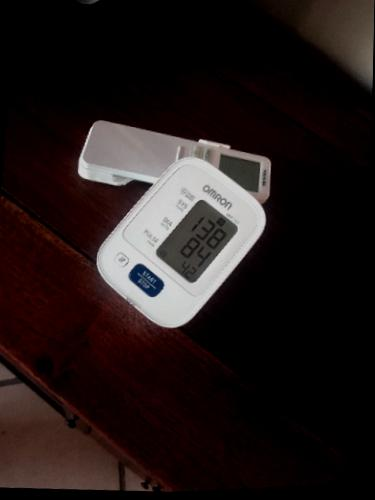bpm: (152, 195, 240, 286)
